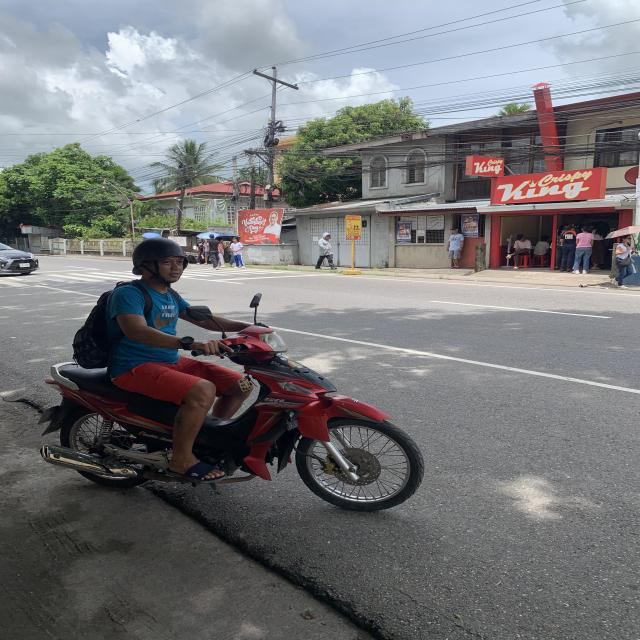motorcycle: (116, 226, 194, 395)
